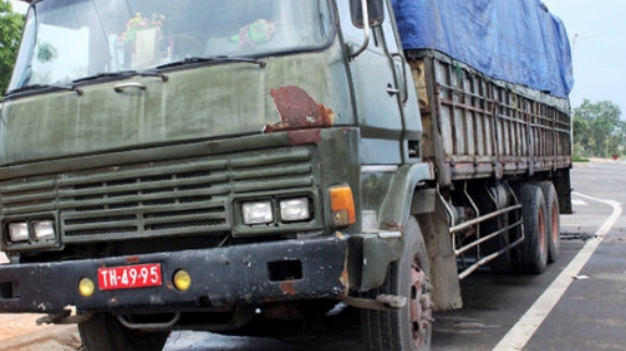plate: (94, 260, 166, 296)
